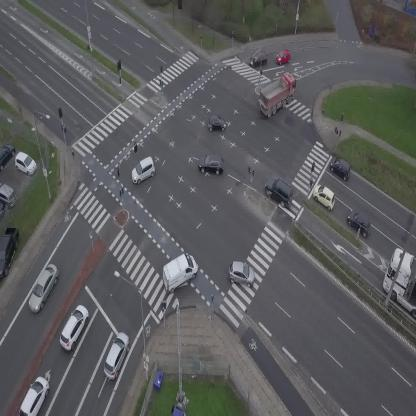car: (23, 261, 63, 315), (54, 302, 94, 352), (100, 330, 133, 381), (15, 374, 54, 416), (259, 172, 300, 210), (126, 155, 160, 186), (342, 208, 375, 238), (309, 182, 340, 211), (226, 260, 257, 288), (326, 153, 356, 181), (198, 153, 225, 175), (247, 50, 269, 67), (273, 48, 292, 65), (208, 114, 226, 131)
lorry: (251, 69, 306, 119), (153, 249, 203, 295), (383, 248, 416, 317)
